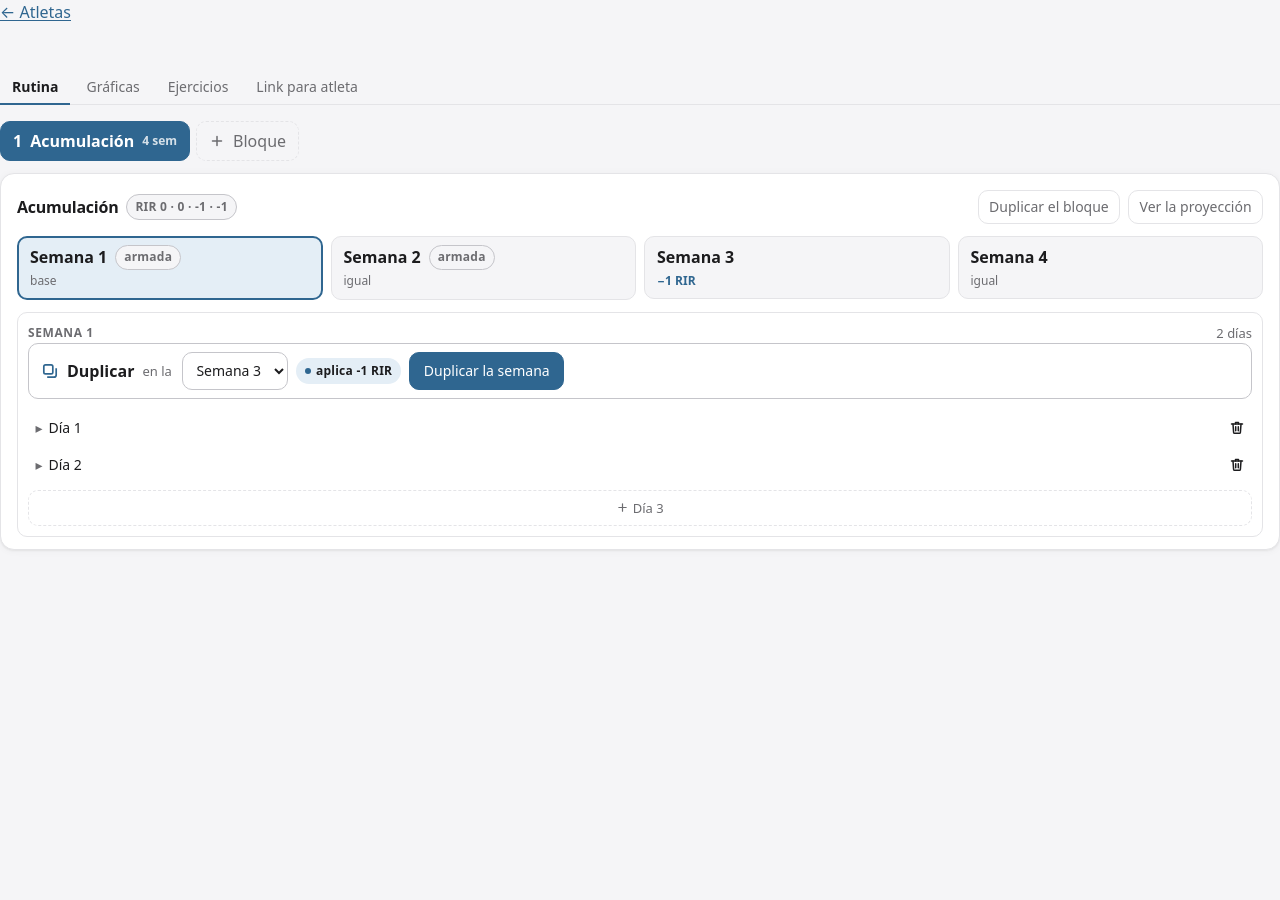
Test: borrar del catálogo pide confirmación › uno sin usar lo dice, en vez de inventar un número
This screenshot has width=1280, height=900.
Click the tab "Ejercicios" at (198, 88), box x1=156 y1=70 x2=240 y2=106
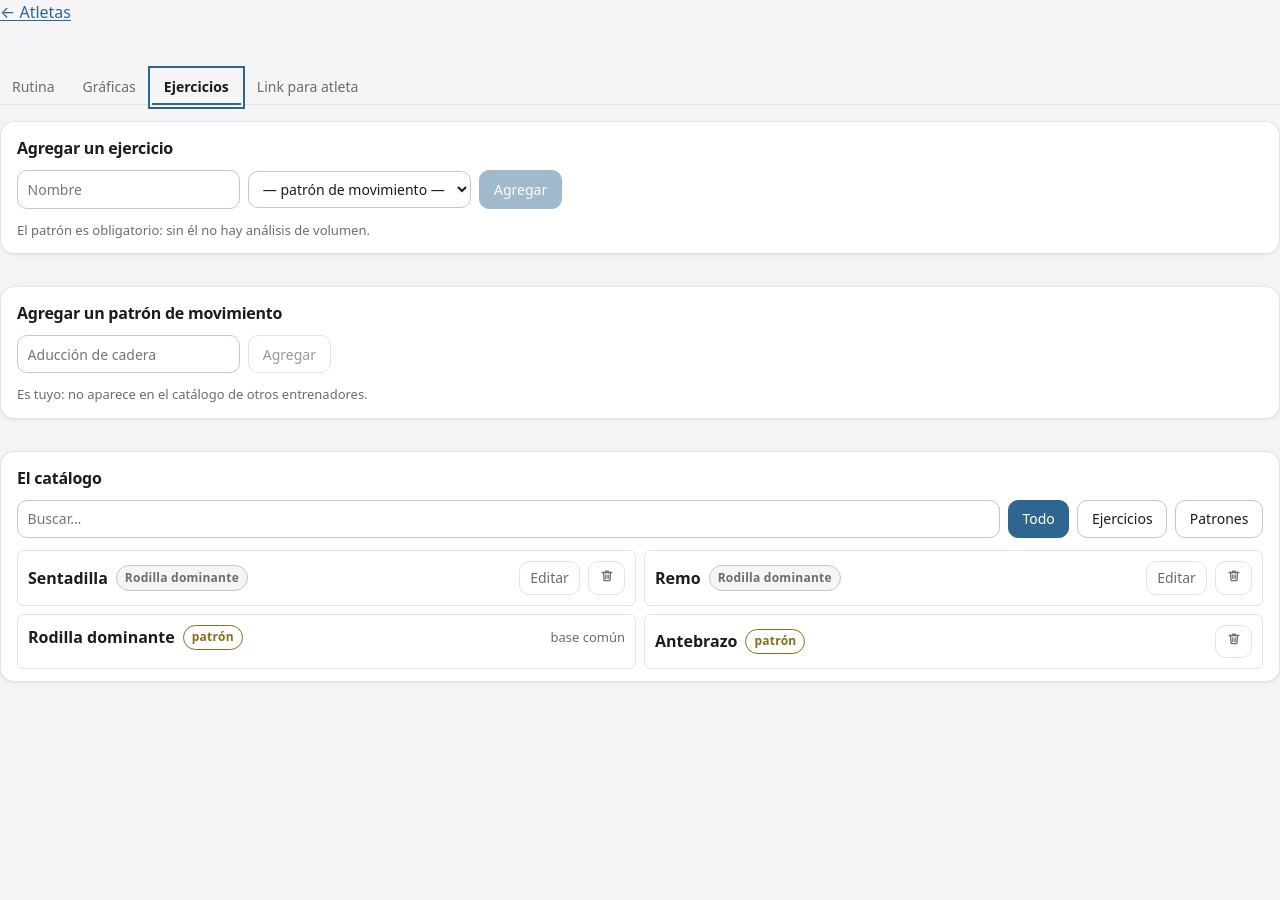
Now the text "Sentadilla" is shown, box x1=28 y1=566 x2=108 y2=590
Click the button named "Borrar Remo" at (1234, 578), box x1=1215 y1=561 x2=1252 y2=595
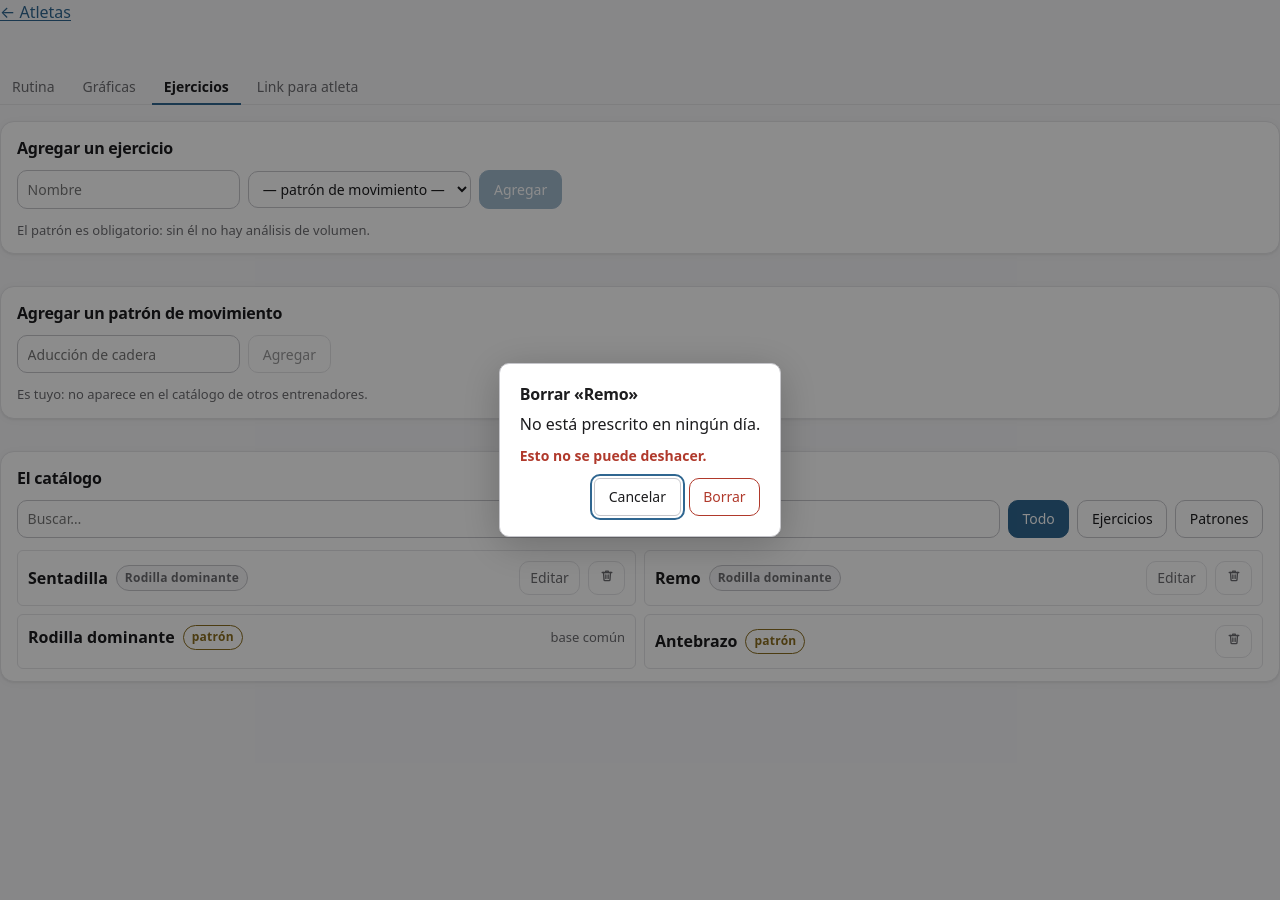
Now the text "No está prescrito en ningún día." is shown, box x1=520 y1=412 x2=760 y2=436
